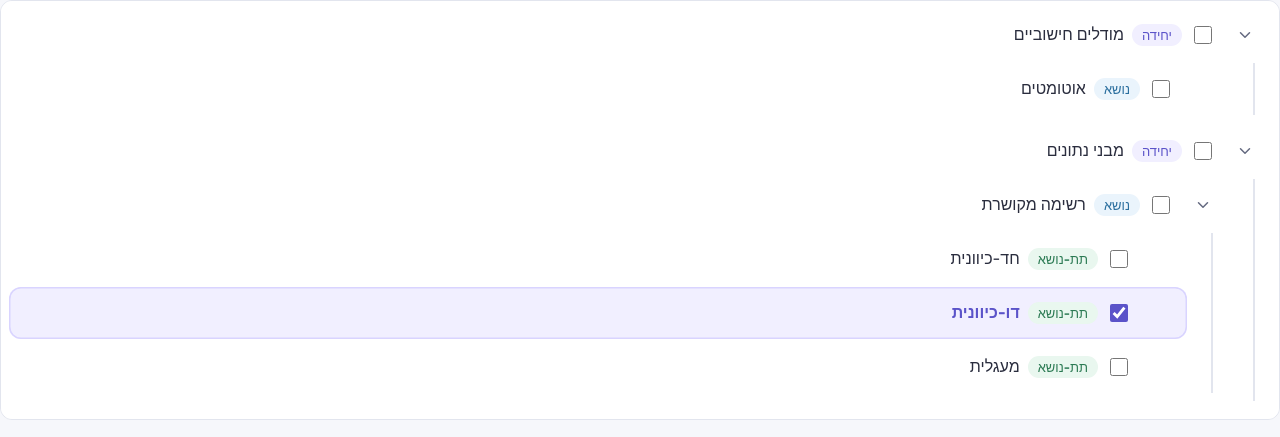
Scenario: TopicPicker as a tree › a branch that holds the selection CAN be collapsed and re-opened (regression: it used to be locked open)
Click the button named "מבני נתונים".
click(1245, 151)  # box [1223,129,1267,173]
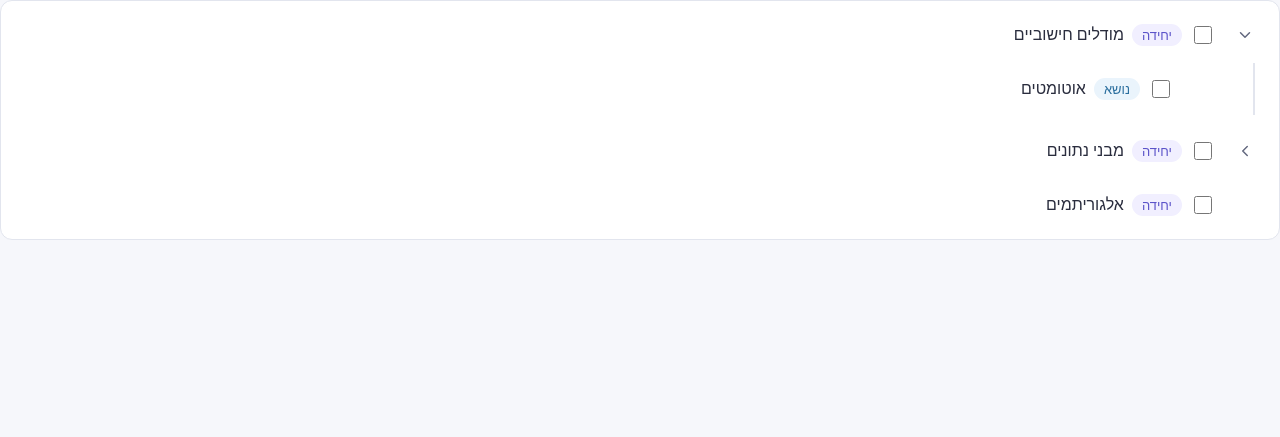
expect the button named "מבני נתונים" is collapsed: met
Click the button named "מבני נתונים".
click(1245, 151)  # box [1223,129,1267,173]
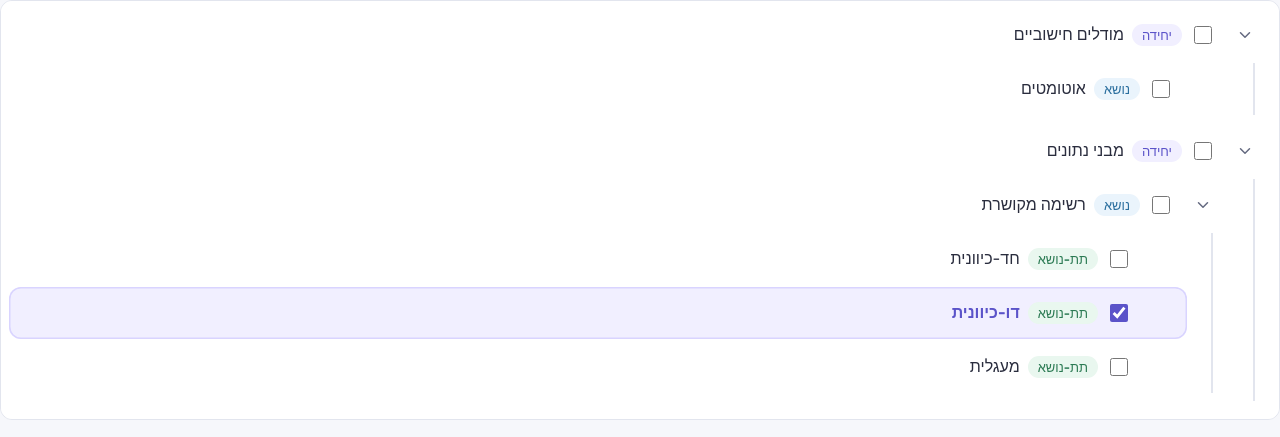
expect the button named "מבני נתונים" is expanded: met, box [1223,129,1267,173]
